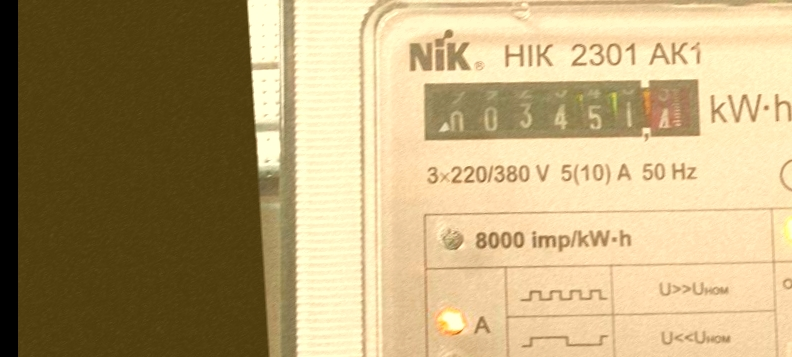0: (445, 106, 467, 134), (480, 104, 501, 133)
1: (620, 97, 638, 129)
3: (515, 99, 536, 131)
4: (549, 101, 571, 134), (653, 104, 674, 133)
5: (585, 100, 604, 132)
screen: (415, 61, 708, 161)
